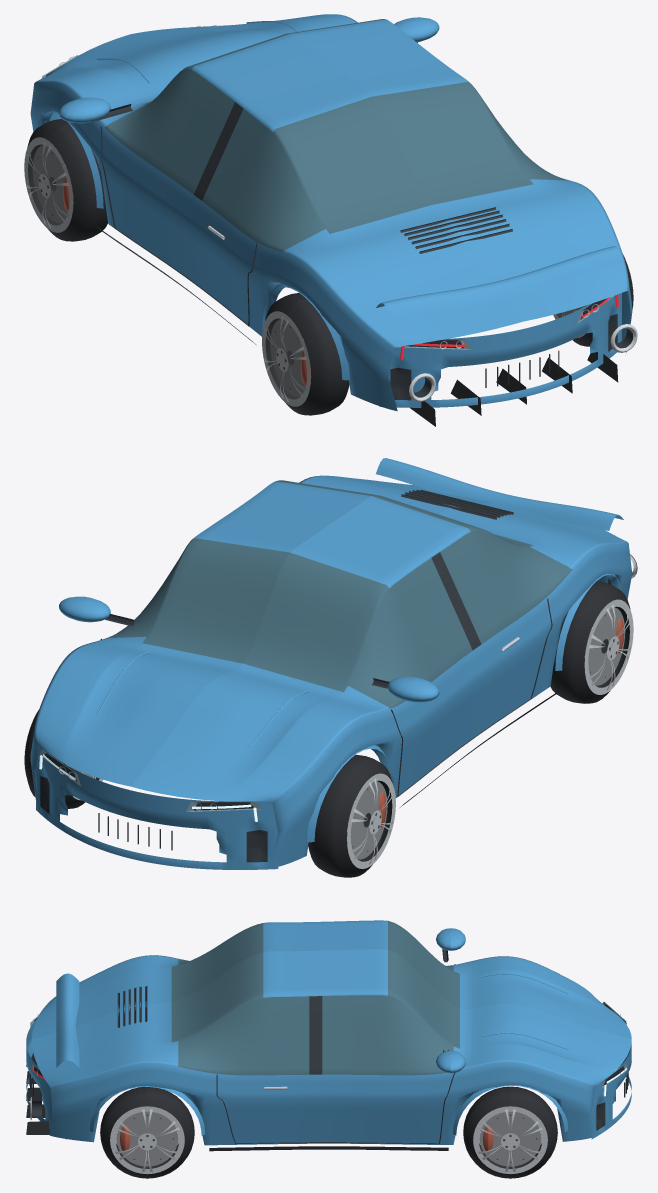
File: falcon_s1_medium.glb
The picture shows the model from 3 angles, top to bottom: view 1: azimuth 30°, elevation 25°; view 2: azimuth 150°, elevation 25°; view 3: azimuth 270°, elevation 25°; orthographic projection. The views are drawn at different scales.
Parts seen in each view (by area): view 1: Body, Wheel_2, Wheel_0; view 2: Body, Wheel_0, Wheel_2, Wheel_1; view 3: Body, Wheel_1, Wheel_3.
Boxes of the visible parts, x1,y1,x2,y2 form: Body: (30, 14, 637, 426); Wheel_2: (262, 293, 349, 415); Wheel_0: (24, 119, 107, 241); Body: (30, 458, 637, 869); Wheel_0: (308, 755, 395, 877); Wheel_2: (550, 581, 633, 703); Wheel_1: (24, 709, 102, 808); Body: (26, 920, 631, 1151); Wheel_1: (463, 1086, 557, 1178); Wheel_3: (100, 1087, 194, 1178).
Bounding box in the file's own units: 2.32 × 1.34 × 4.39.
